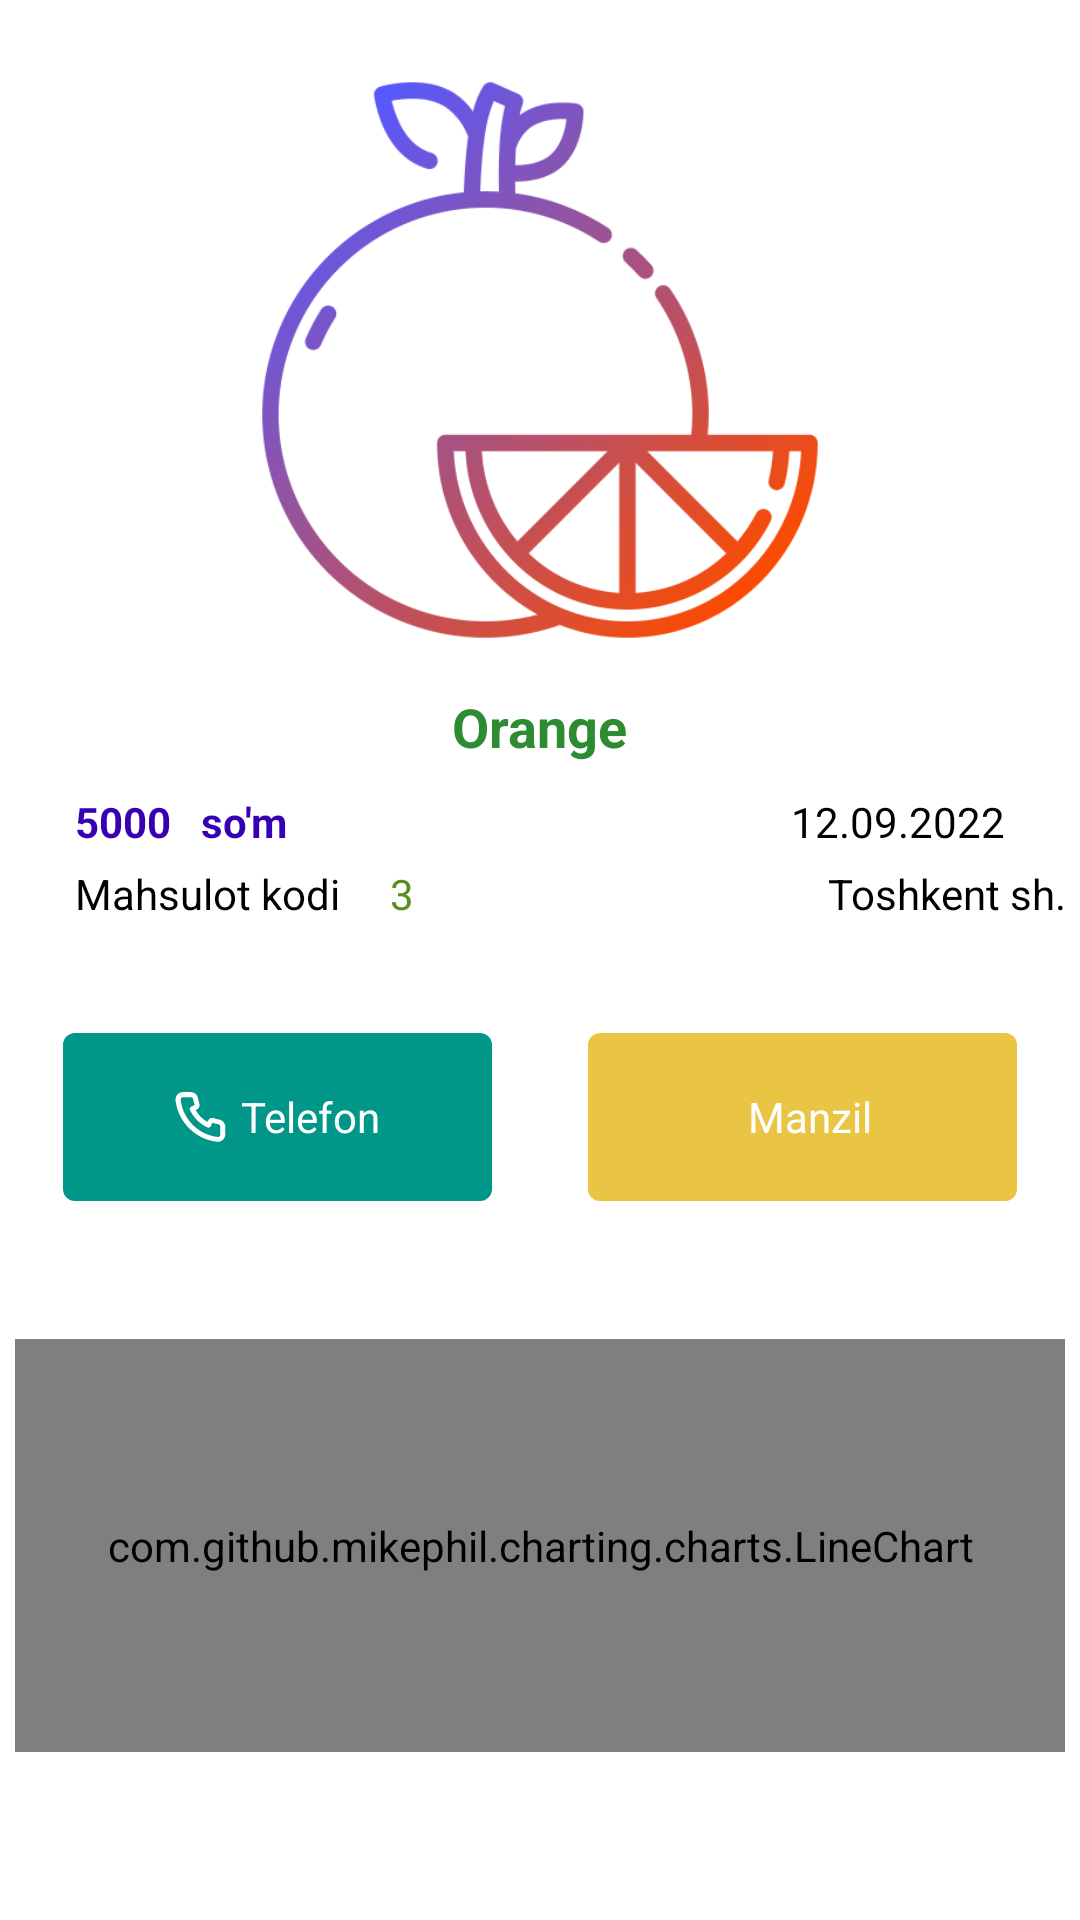

Locate icon controls on the screen. Image size 1080px x 1920px, boxes as box=[x1, y1, x2, y2].
phone: box=[175, 1092, 226, 1142]
